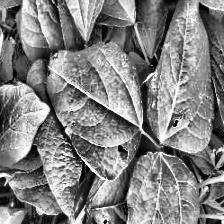ALS: (42, 35, 147, 180), (148, 0, 213, 156), (123, 158, 194, 224)
